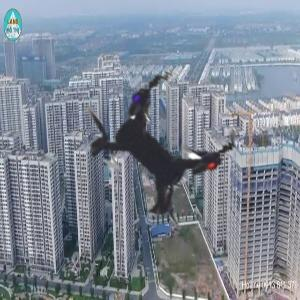drone: (14, 10, 289, 285)
